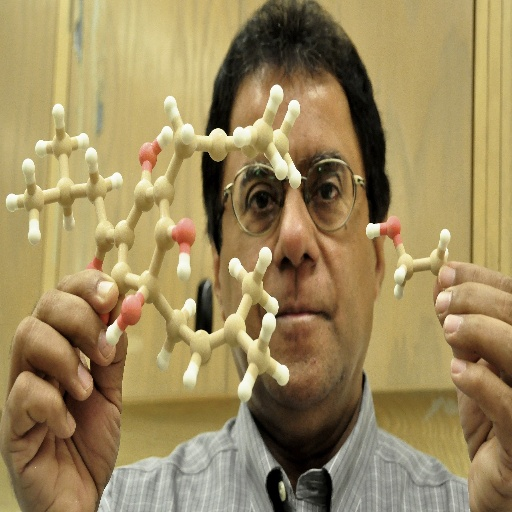hand: (0, 267, 128, 511), (411, 226, 512, 467)
